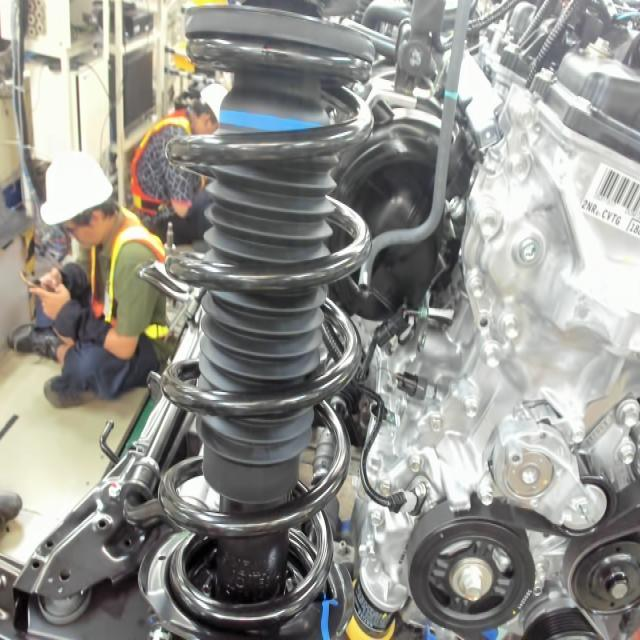Bumper-BR: (217, 97, 333, 137)
Hose Canister-HJ: (442, 88, 461, 102)
